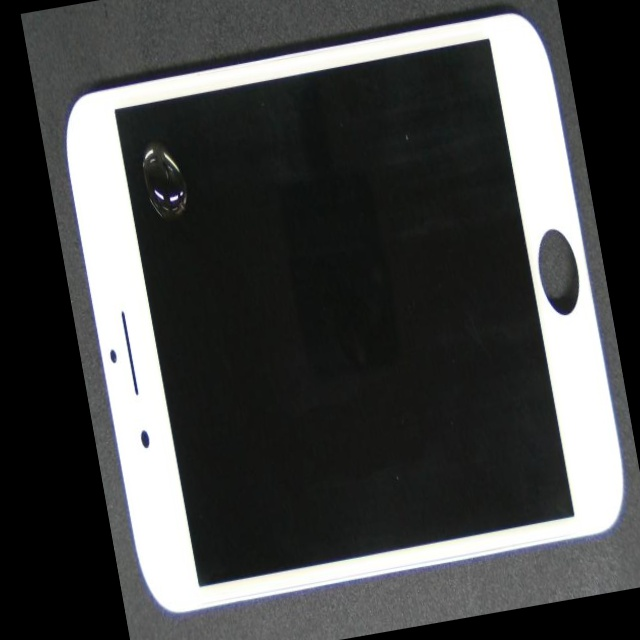oil: (100, 58, 211, 226)
